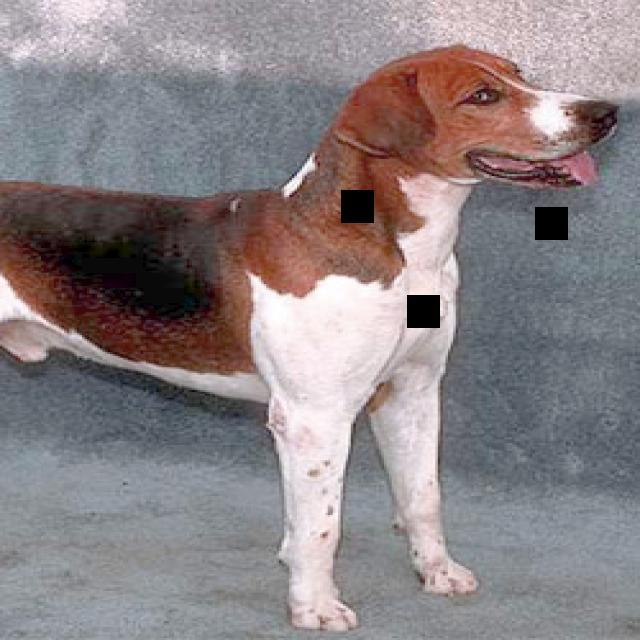adult_dog: (2, 43, 623, 631)
